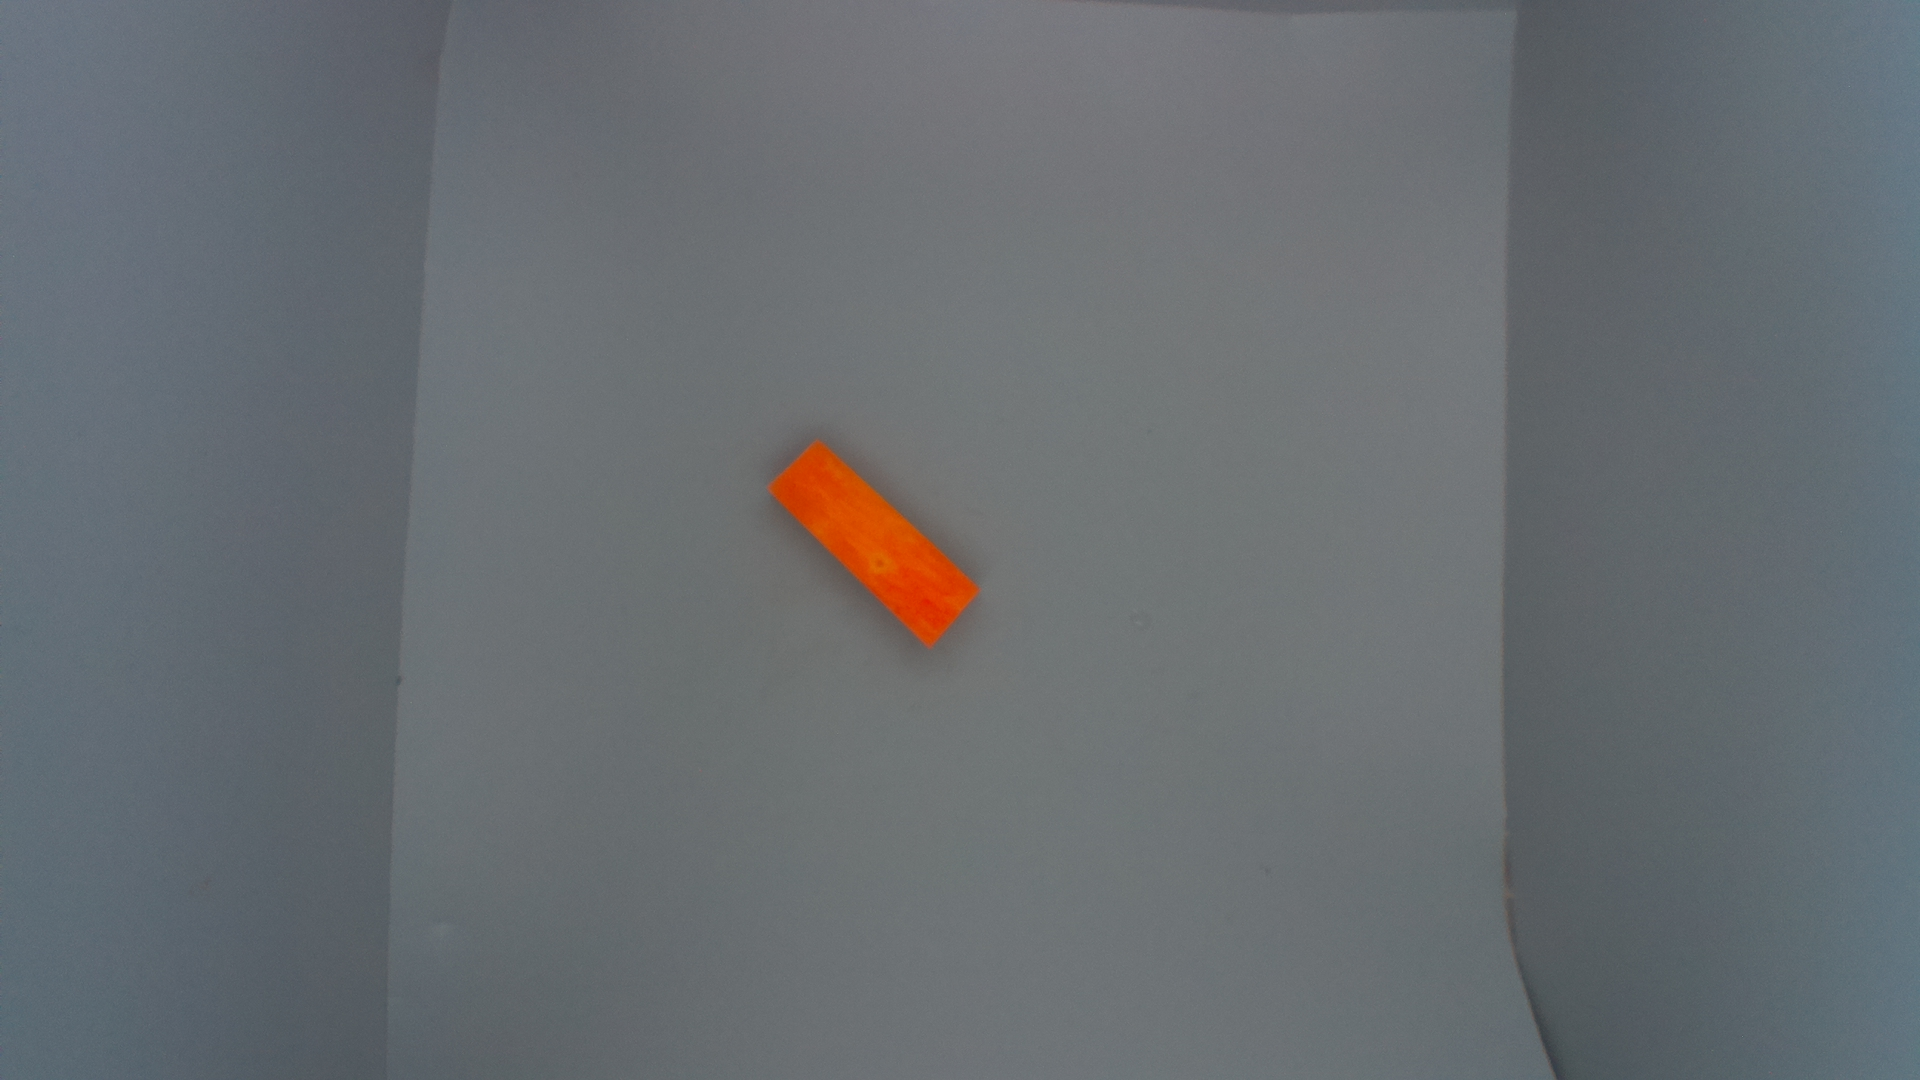carrot: (764, 438, 982, 653)
